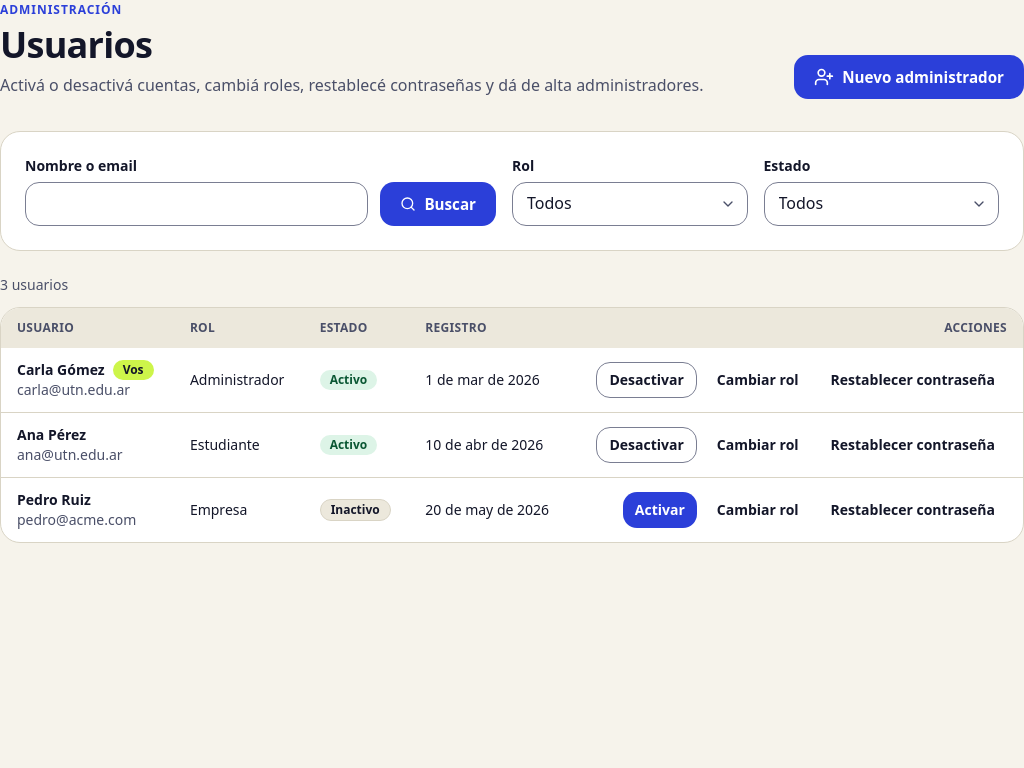
Test: UsuariosAdminPage › restablece la contraseña solo cuando la nueva cumple las reglas
Click the button with aria-label "Restablecer contraseña de Ana Pérez" at (913, 445), box [819,427,1007,463]
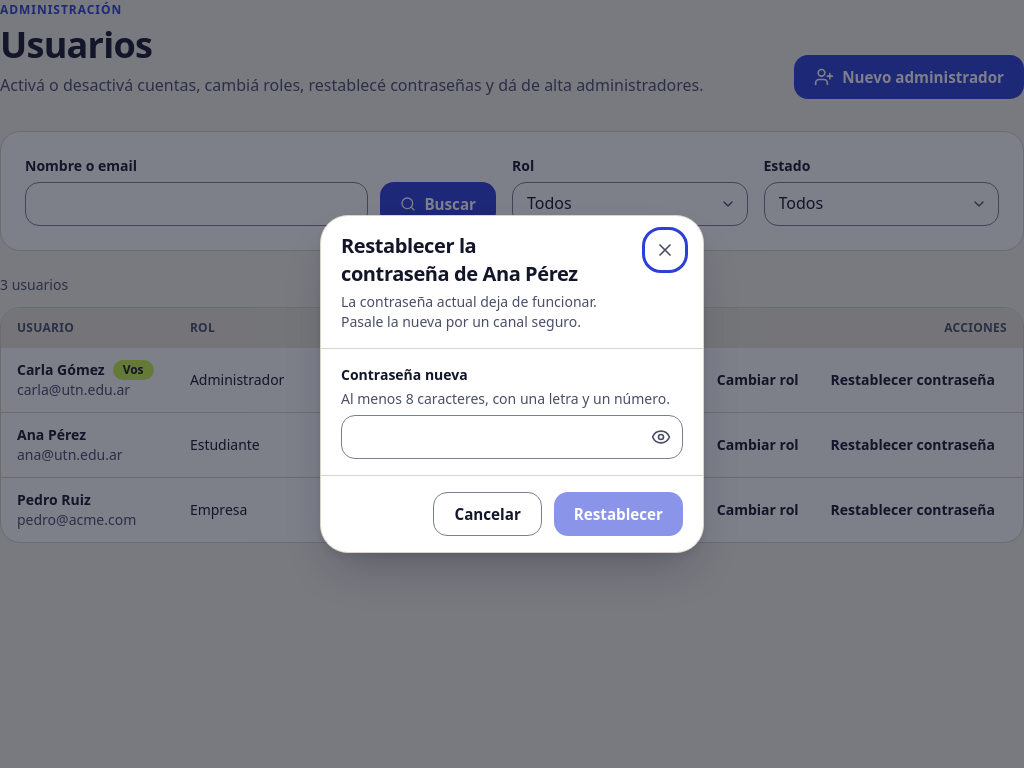
Type "corta1" into the password field labelled "Contraseña nueva" at (512, 437), box [341,415,683,459]
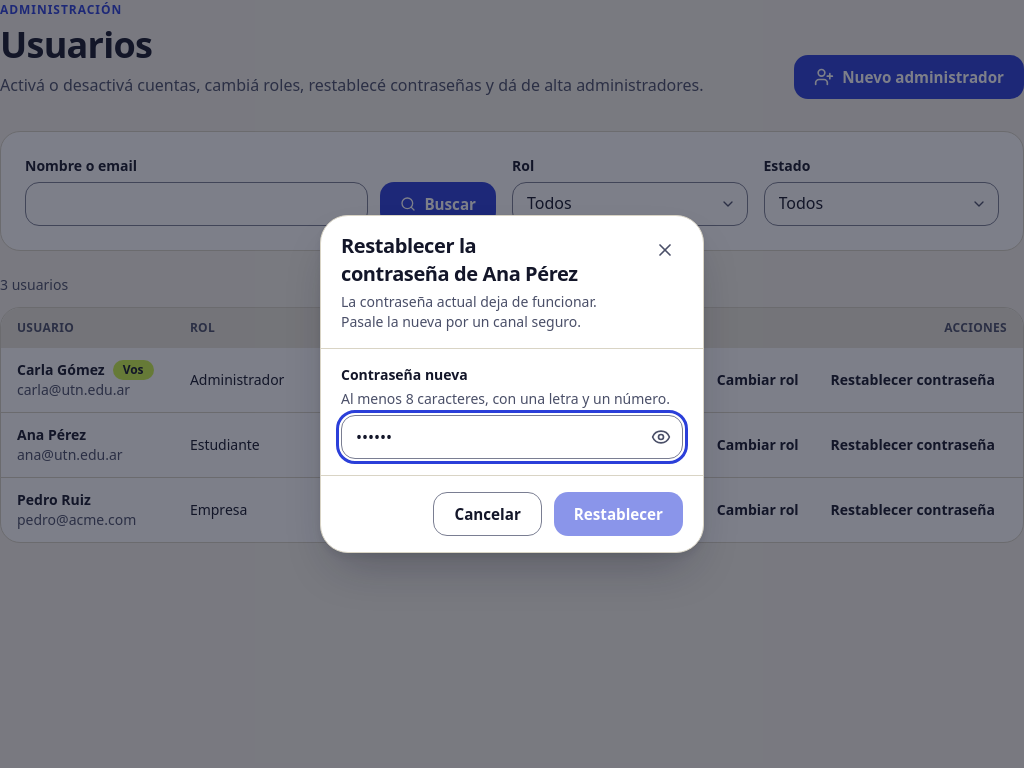
Result: the button "Restablecer" is disabled at [554,492,683,536]
Type "234" into the password field labelled "Contraseña nueva" at (512, 437), box [341,415,683,459]
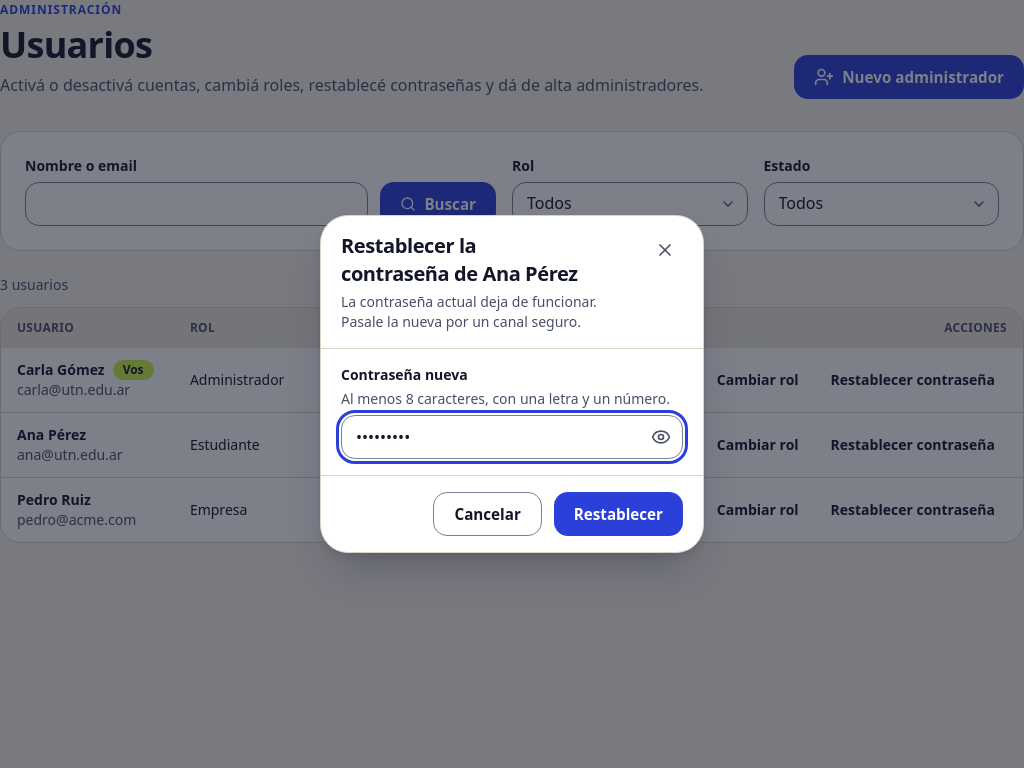
Click the button "Restablecer" at (618, 514), box [554,492,683,536]
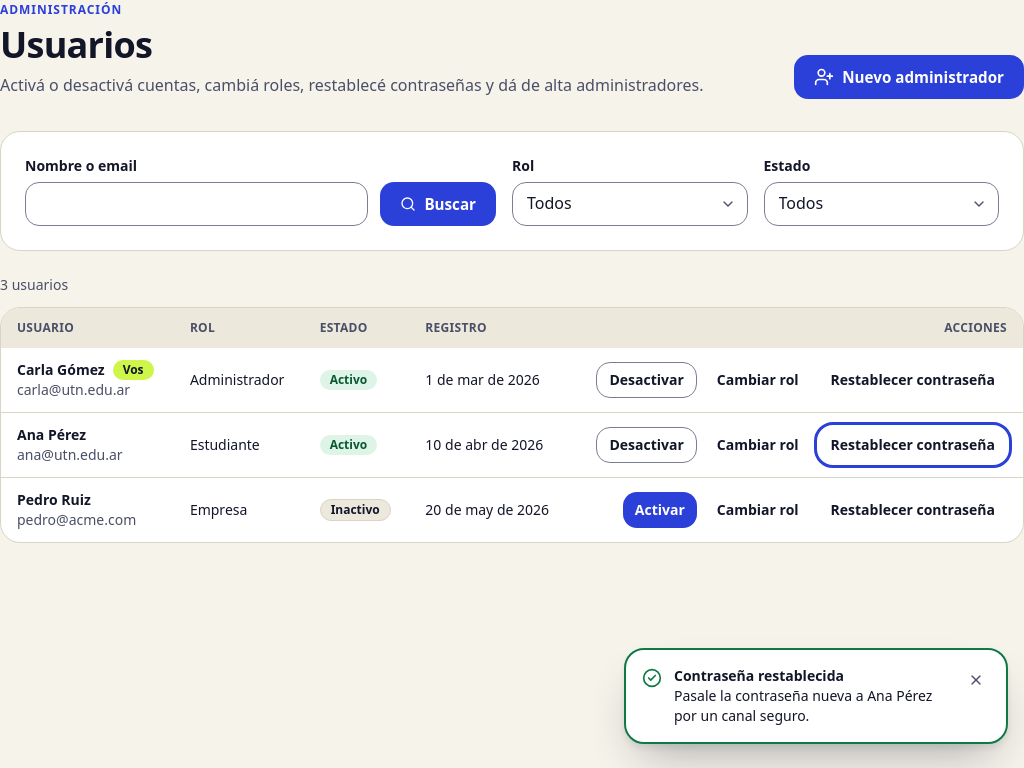
Result: the text "Contraseña restablecida" is shown at [674,666,844,685]
